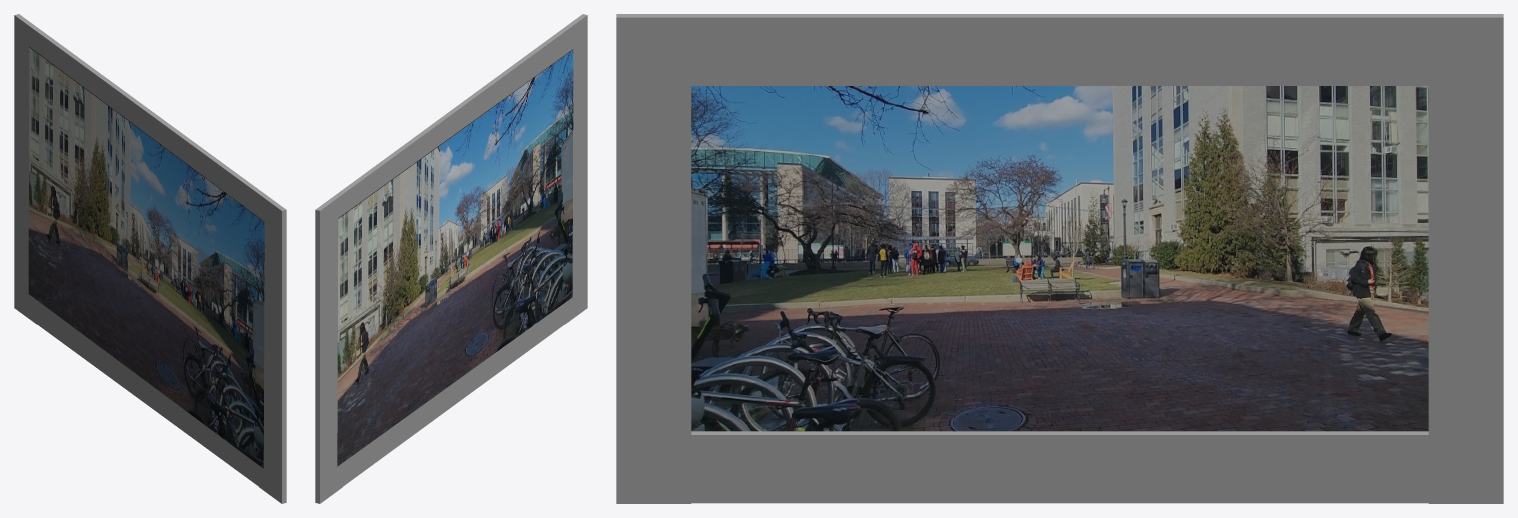
Rendered from window3.fbx.
3 renders of one model, left to right at view 1: azimuth 30°, elevation 25°; view 2: azimuth 150°, elevation 25°; view 3: azimuth 270°, elevation 25°, orthographic. The views are drawn at different scales.
Visible parts, largest first — view 1: pPlane1, pCube4, pCube1, pCube2, pCube3; view 2: pPlane1, pCube4, pCube1, pCube3, pCube2; view 3: pPlane1, pCube1, pCube4, pCube2, pCube3.
Part boxes in pixels (x1,y1,x2,y2): pPlane1: (28, 47, 264, 468); pCube4: (14, 14, 286, 251); pCube1: (14, 267, 281, 503); pCube2: (259, 195, 286, 503); pCube3: (14, 16, 36, 324); pPlane1: (337, 49, 573, 466); pCube4: (315, 14, 587, 249); pCube1: (320, 267, 587, 503); pCube3: (315, 195, 342, 503); pCube2: (565, 27, 587, 324); pPlane1: (691, 86, 1428, 431); pCube1: (616, 431, 1503, 503); pCube4: (616, 14, 1503, 85); pCube2: (616, 18, 691, 503); pCube3: (1428, 18, 1503, 503).
Bounding box in the file's own units: 0.682 × 30.47 × 50.41.
